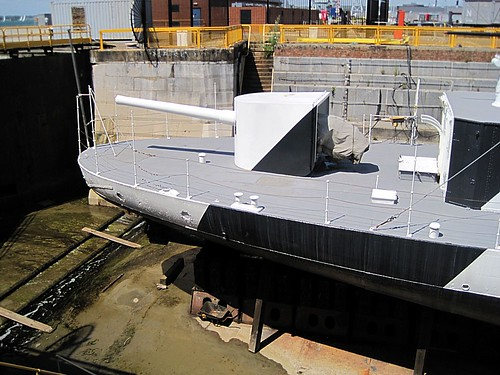boat: (85, 84, 500, 281)
building: (1, 1, 290, 32)
weapon: (125, 88, 356, 174)
